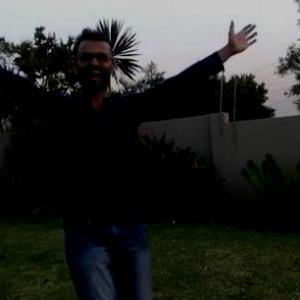takeoff: (1, 25, 246, 299)
